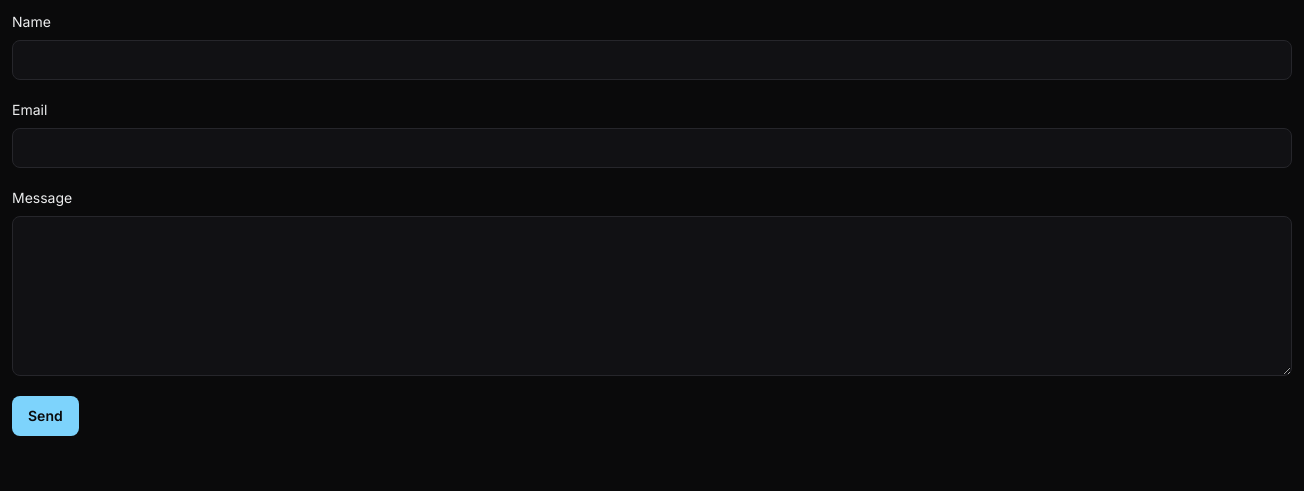
it: ContactForm › shows the error state on API failure
Type "Recruiter" into the field labelled "Name".
click(652, 60); type("Recruiter")  # box [12,40,1292,80]
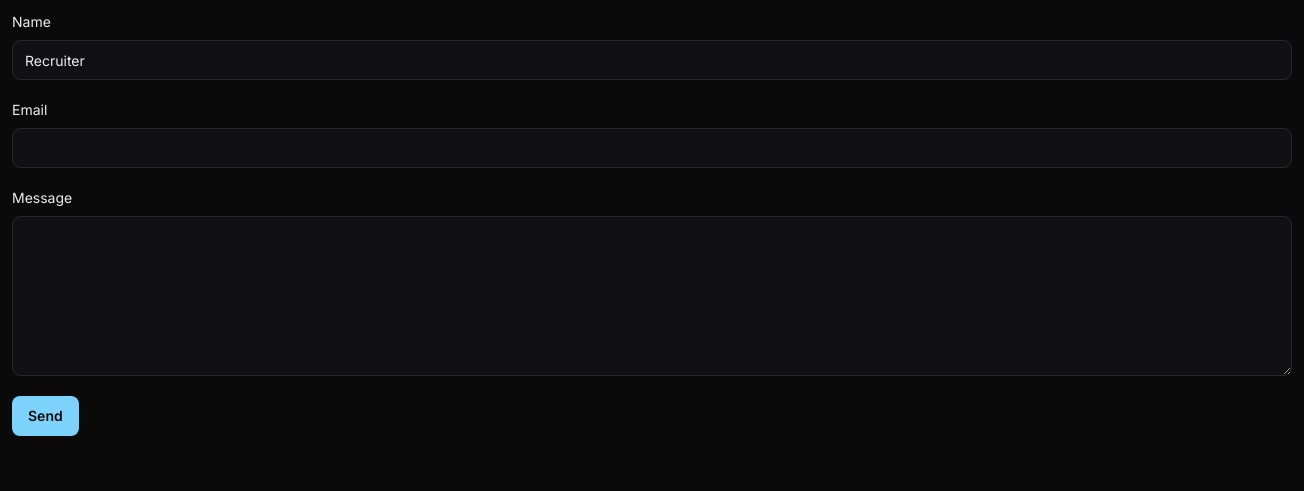
Type "r@example.com" into the field labelled "Email".
click(652, 148); type("r@example.com")  # box [12,128,1292,168]
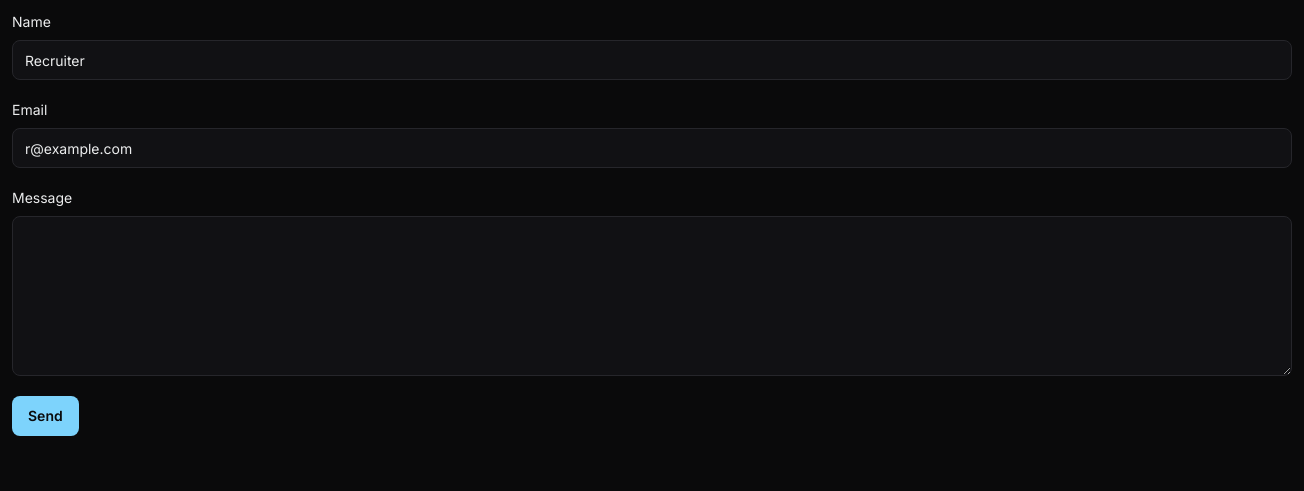
Type "Long enough message body for tests." into the text box labelled "Message".
click(652, 296); type("Long enough message body for tests.")  # box [12,216,1292,376]
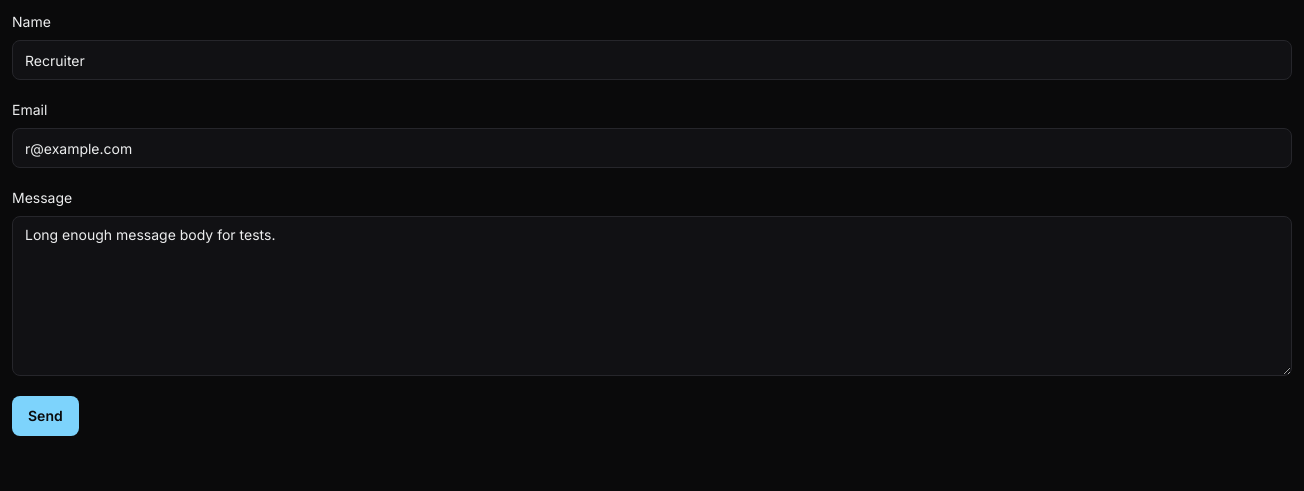
Click the button "Send".
click(45, 416)  # box [12,396,79,436]
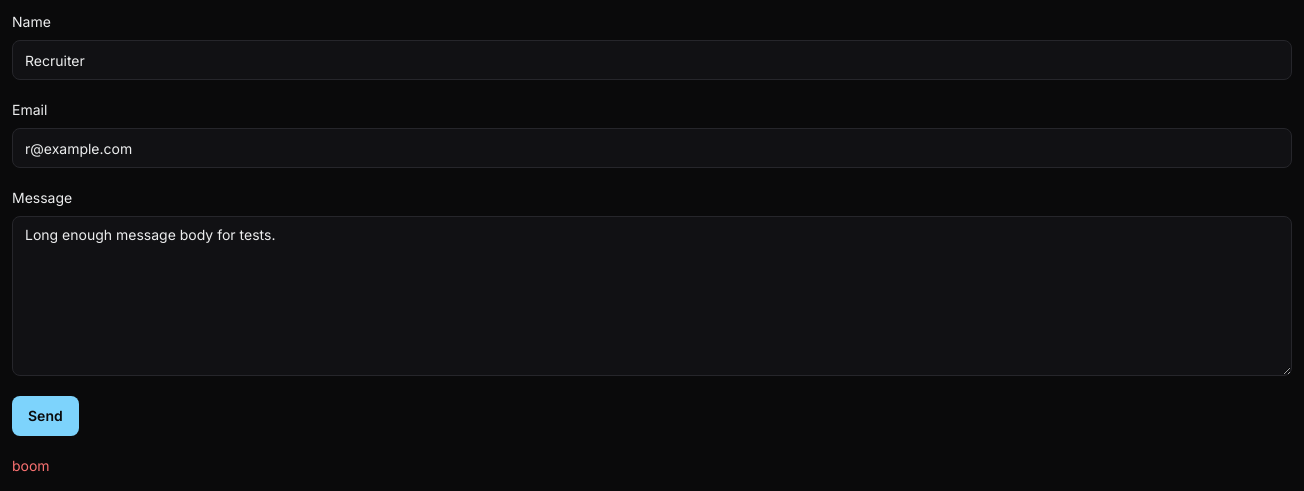
Check: the text "boom" is shown, box [12,457,50,474]
